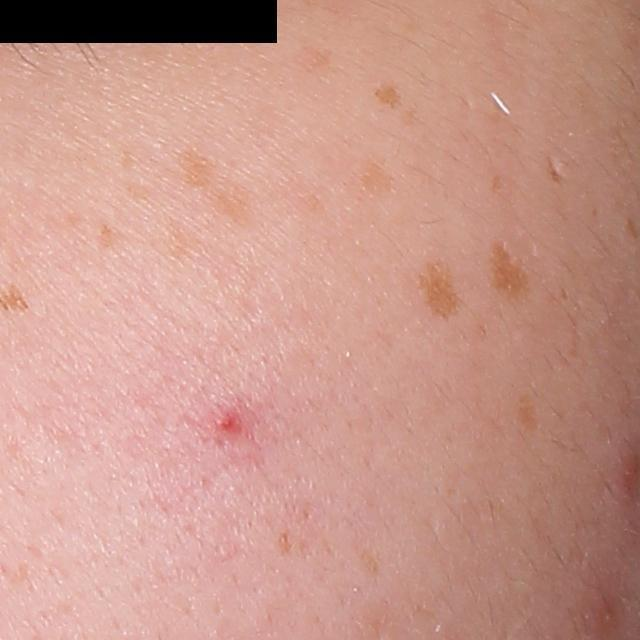atrophic_scar: (547, 156, 568, 188)
melasma: (180, 144, 253, 229), (412, 257, 466, 327), (487, 233, 535, 307), (358, 154, 397, 198), (512, 389, 546, 435), (368, 80, 406, 112), (93, 222, 122, 254), (488, 175, 506, 194)
papule: (215, 408, 242, 431)
